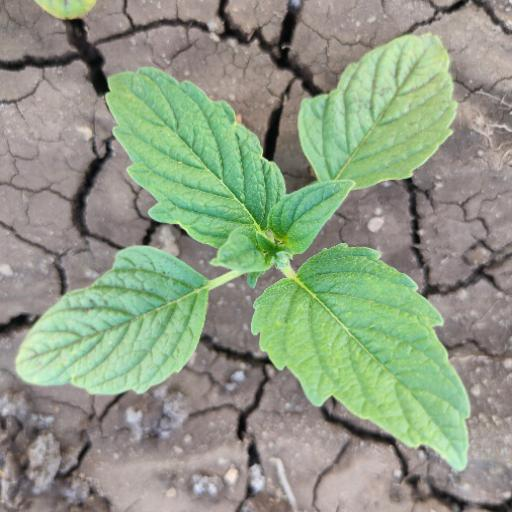weed: (11, 27, 475, 489)
